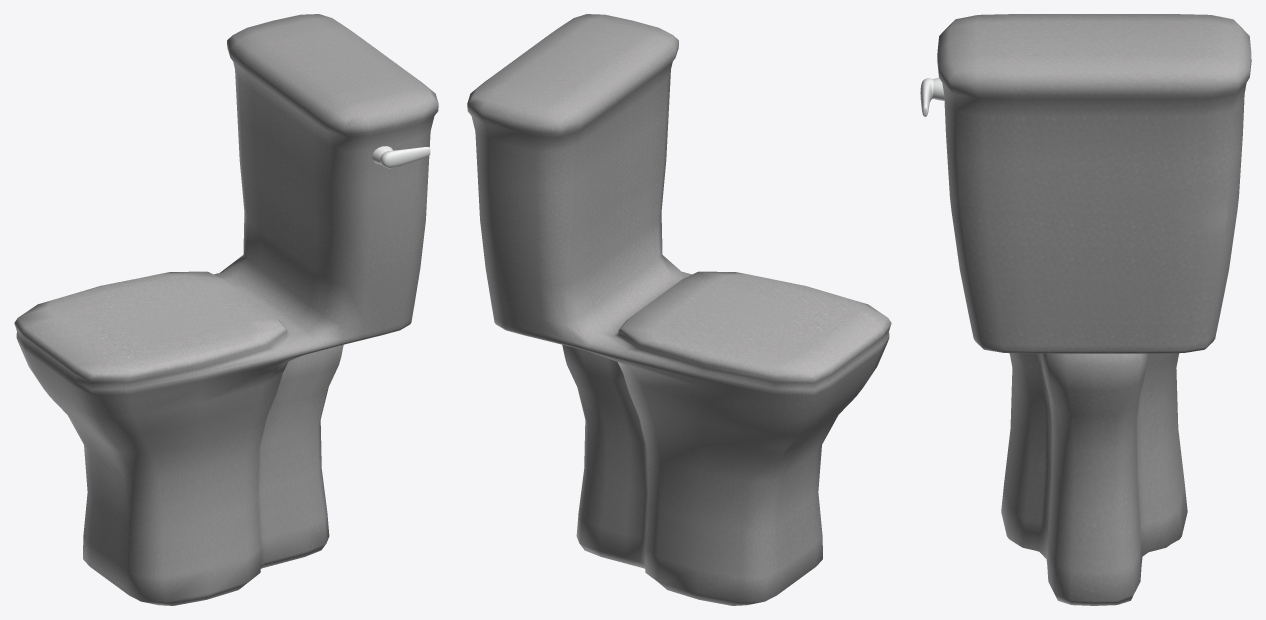
File: _finalToilet.fbx
3 renders of one model, left to right at view 1: azimuth 30°, elevation 25°; view 2: azimuth 150°, elevation 25°; view 3: azimuth 270°, elevation 25°, orthographic. The views are drawn at different scales.
Visible parts, largest first — view 1: Toliet; view 2: Toliet; view 3: Toliet.
Part boxes in pixels (left/top/right/bottom): Toliet: left=14, top=14, right=438, bottom=605; Toliet: left=467, top=14, right=891, bottom=605; Toliet: left=920, top=14, right=1251, bottom=605.
Size of the model in its own units: 324 by 433 by 222.
Materials: 1 (1 with a texture image).
